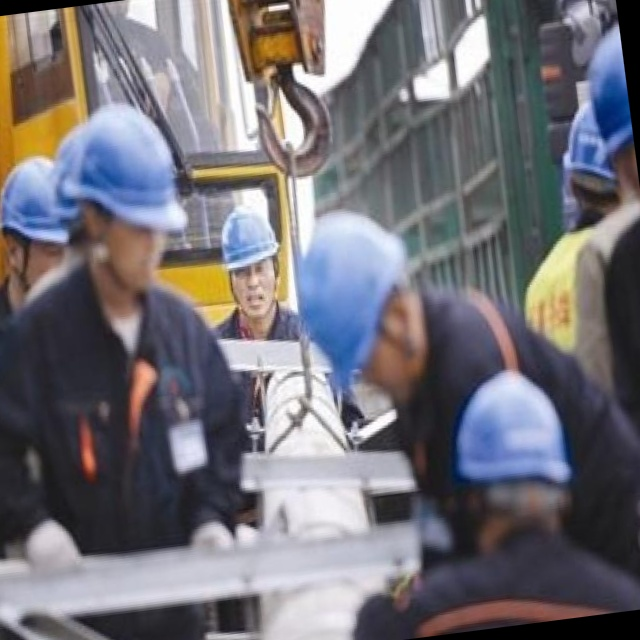Con_Casco: (219, 203, 286, 320)
